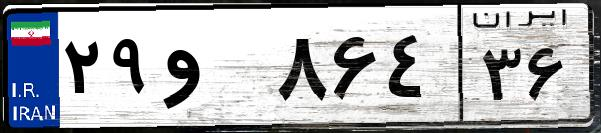2: (57, 26, 110, 100)
3: (475, 38, 525, 113)
4: (385, 28, 445, 110)
6: (330, 28, 385, 110), (525, 38, 570, 115)
8: (270, 28, 330, 110)
9: (110, 28, 158, 98)
و: (158, 20, 270, 120)
